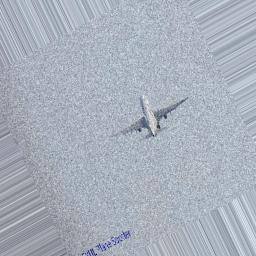Airplane: (114, 92, 190, 142)
